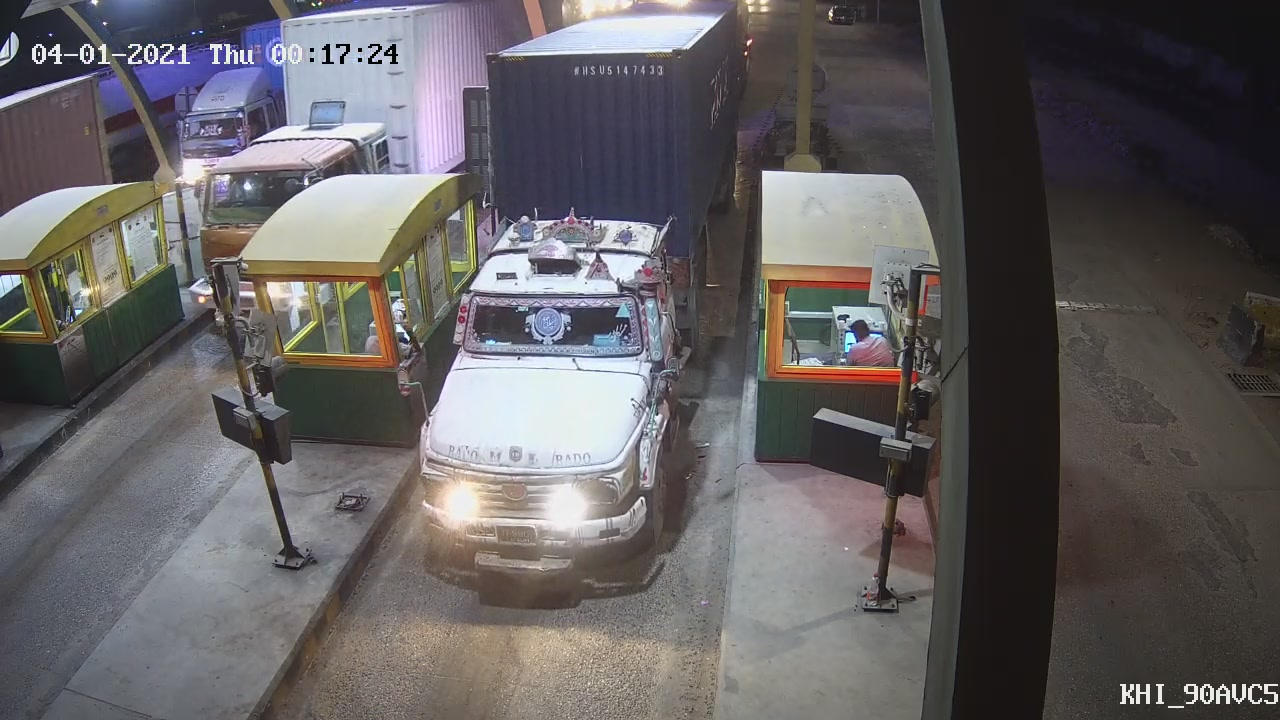F6: (380, 45, 720, 593)
